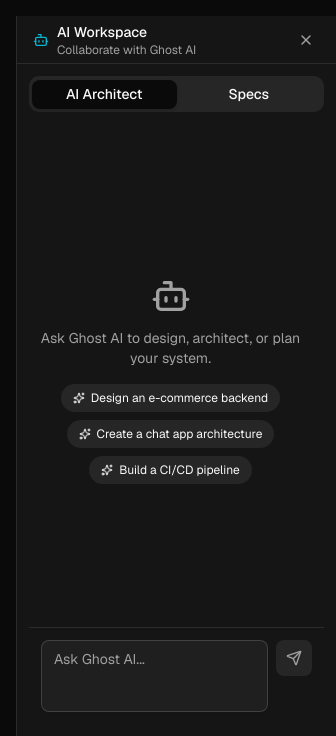
Test: AiSidebar › displays sent messages in chat area
Type "first message" into the text box with placeholder "Ask Ghost AI..." at {"x": 154, "y": 676}, box [41,640,268,712]
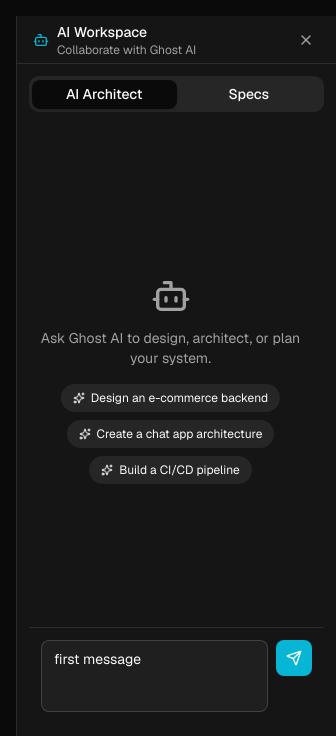
Click the button named "Send message" at {"x": 294, "y": 658}, box [276,640,312,676]
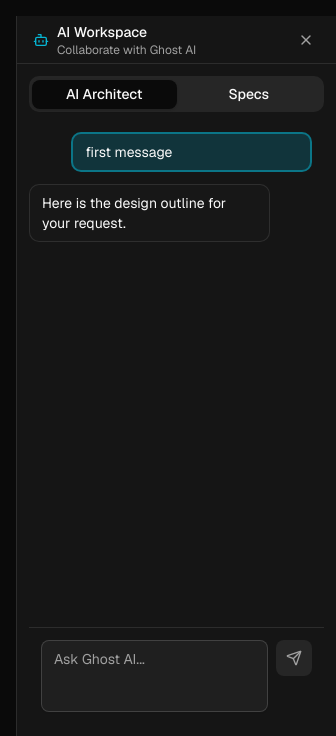
Type "second message" into the text box with placeholder "Ask Ghost AI..." at {"x": 154, "y": 676}, box [41,640,268,712]
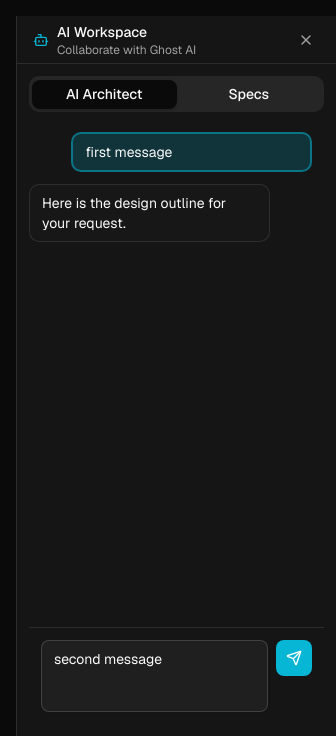
Click the button named "Send message" at {"x": 294, "y": 658}, box [276,640,312,676]
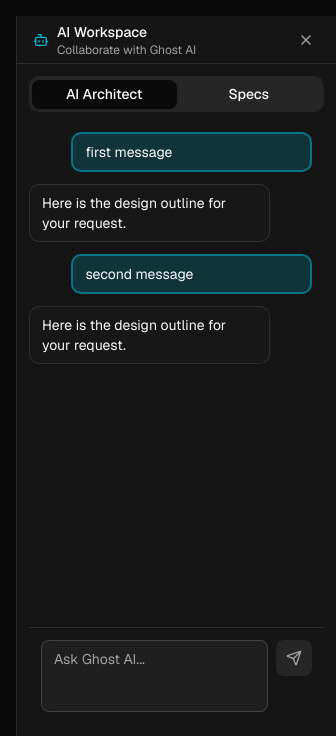
Result: the text "first message" is shown at [72,132,312,172]
Result: the text "second message" is shown at [72,254,312,294]
